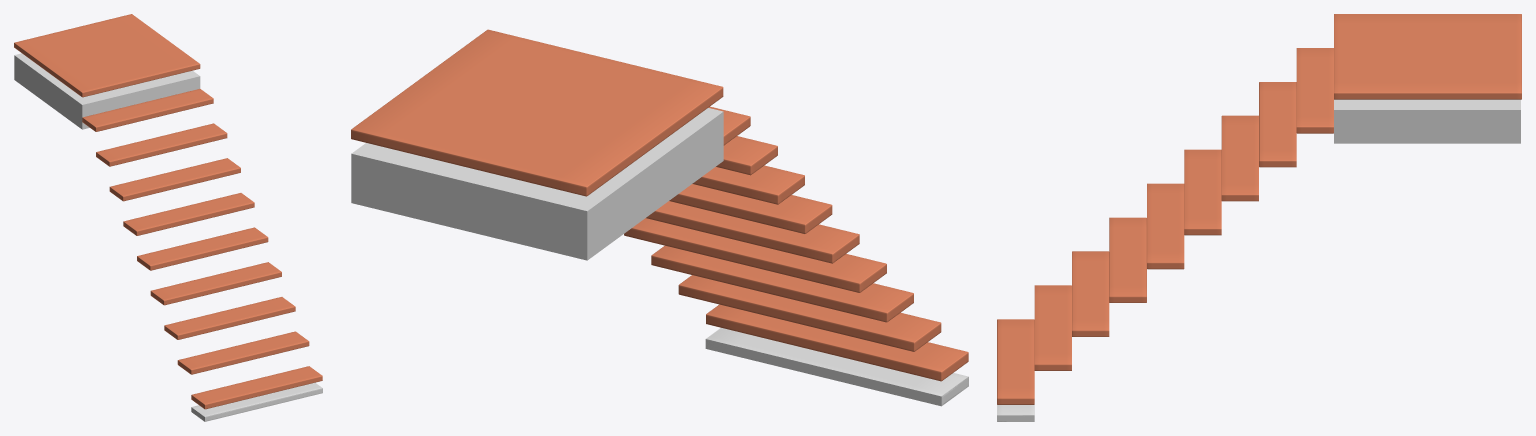
The model's file is SquareStairs.glb.
3 renders of one model, left to right at view 1: azimuth 30°, elevation 25°; view 2: azimuth 150°, elevation 25°; view 3: azimuth 270°, elevation 25°, orthographic. The views are drawn at different scales.
Visible parts, largest first — view 1: smooth_step_8, Cube_2, smooth_step_1, smooth_step_0, smooth_step_4, smooth_step_5, smooth_step_7, smooth_step_8_2, smooth_step_2, smooth_step_3, smooth_step_6, smooth_step (+1 smaller); view 2: smooth_step_8, Cube_2, smooth_step_1, smooth_step_0, smooth_step_2, smooth_step_3, smooth_step_4, smooth_step, smooth_step_5, Cube_1, smooth_step_6, smooth_step_7 (+1 smaller); view 3: smooth_step_8, Cube_2, smooth_step_5, smooth_step_4, smooth_step_6, smooth_step_0, smooth_step_1, smooth_step_3, smooth_step_7, smooth_step_2, smooth_step_8_2.
Boxes of the visible parts, bbox=[...] form: smooth_step_8: bbox=[14, 14, 200, 97]; Cube_2: bbox=[14, 53, 200, 129]; smooth_step_1: bbox=[177, 331, 309, 374]; smooth_step_0: bbox=[191, 366, 322, 409]; smooth_step_4: bbox=[137, 227, 268, 270]; smooth_step_5: bbox=[123, 193, 254, 235]; smooth_step_7: bbox=[96, 123, 227, 166]; smooth_step_8_2: bbox=[82, 89, 213, 131]; smooth_step_2: bbox=[164, 297, 295, 339]; smooth_step_3: bbox=[150, 262, 281, 305]; smooth_step_6: bbox=[109, 158, 240, 201]; smooth_step: bbox=[192, 382, 322, 421]; smooth_step_8: bbox=[351, 29, 723, 196]; Cube_2: bbox=[351, 108, 723, 260]; smooth_step_1: bbox=[678, 275, 941, 351]; smooth_step_0: bbox=[706, 304, 968, 381]; smooth_step_2: bbox=[651, 245, 913, 322]; smooth_step_3: bbox=[624, 218, 886, 292]; smooth_step_4: bbox=[646, 201, 859, 263]; smooth_step: bbox=[707, 328, 968, 404]; smooth_step_5: bbox=[669, 184, 832, 233]; Cube_1: bbox=[705, 328, 968, 406]; smooth_step_6: bbox=[692, 165, 804, 204]; smooth_step_7: bbox=[716, 136, 777, 175]; smooth_step_8: bbox=[1334, 14, 1521, 99]; Cube_2: bbox=[1334, 99, 1520, 143]; smooth_step_5: bbox=[1184, 149, 1221, 235]; smooth_step_4: bbox=[1147, 183, 1184, 269]; smooth_step_6: bbox=[1221, 115, 1258, 201]; smooth_step_0: bbox=[997, 319, 1034, 404]; smooth_step_1: bbox=[1034, 285, 1071, 370]; smooth_step_3: bbox=[1109, 217, 1146, 302]; smooth_step_7: bbox=[1259, 82, 1296, 167]; smooth_step_2: bbox=[1072, 251, 1109, 336]; smooth_step_8_2: bbox=[1296, 48, 1333, 133].
Bounding box in the file's own units: 0.5 × 0.97 × 1.4.
